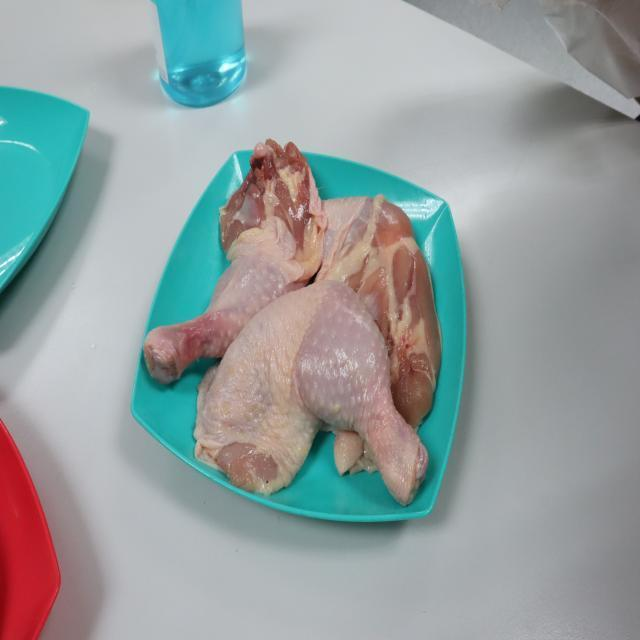quater: (203, 279, 427, 507), (137, 134, 315, 368), (300, 194, 440, 416)
